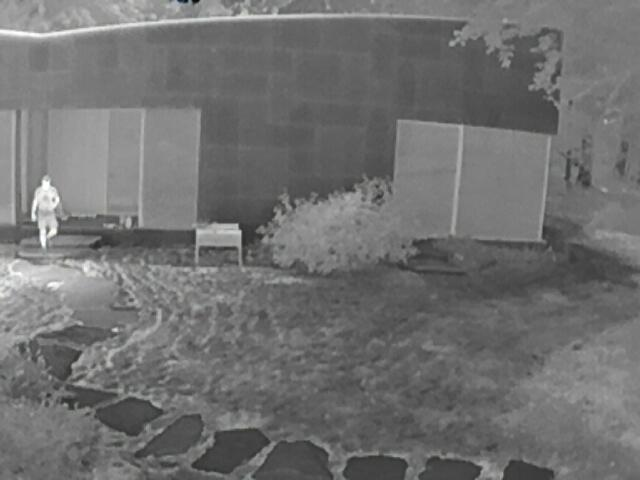person: (30, 177, 58, 248)
